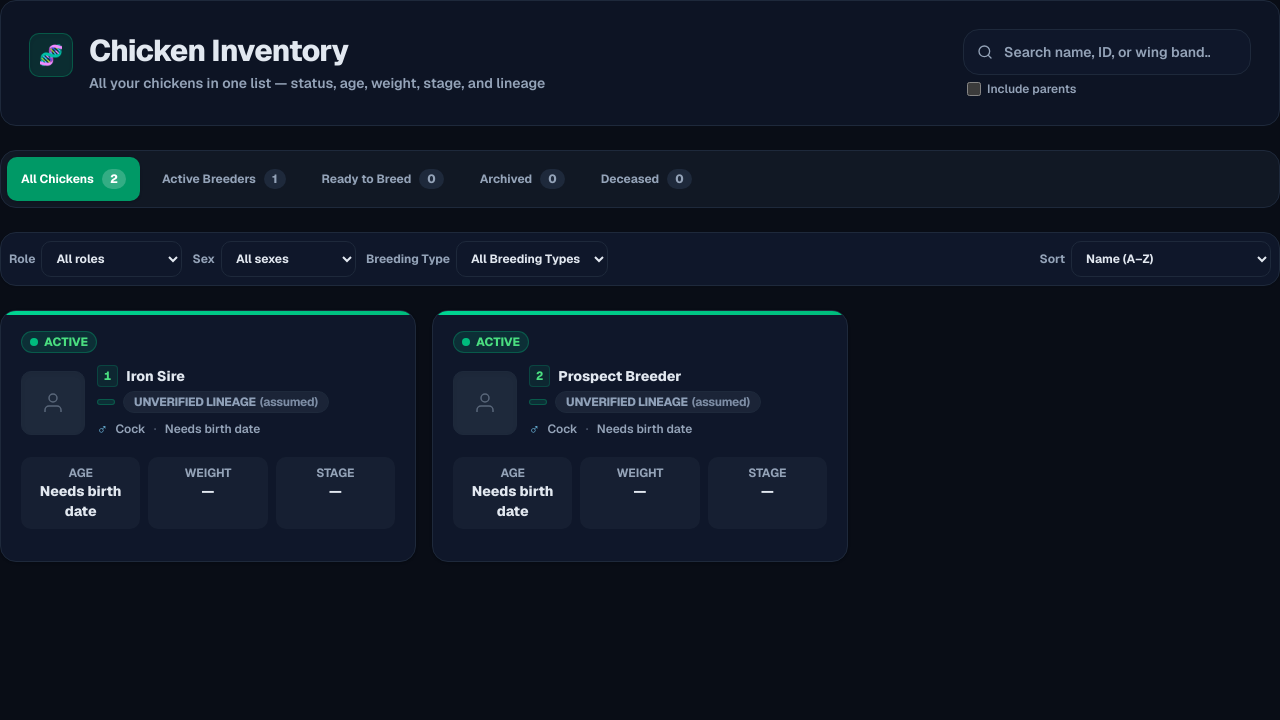
Test: MarketplacePage agriculturist terminology (Fight Prospects / Ready to Breed / Active Breeders) › excludes offspring with breeding_role = breeder from Active Breeders (stays in Registry until promoted)
Click the tab "Active Breeders 1": (224, 179) 148,157 -> 300,201
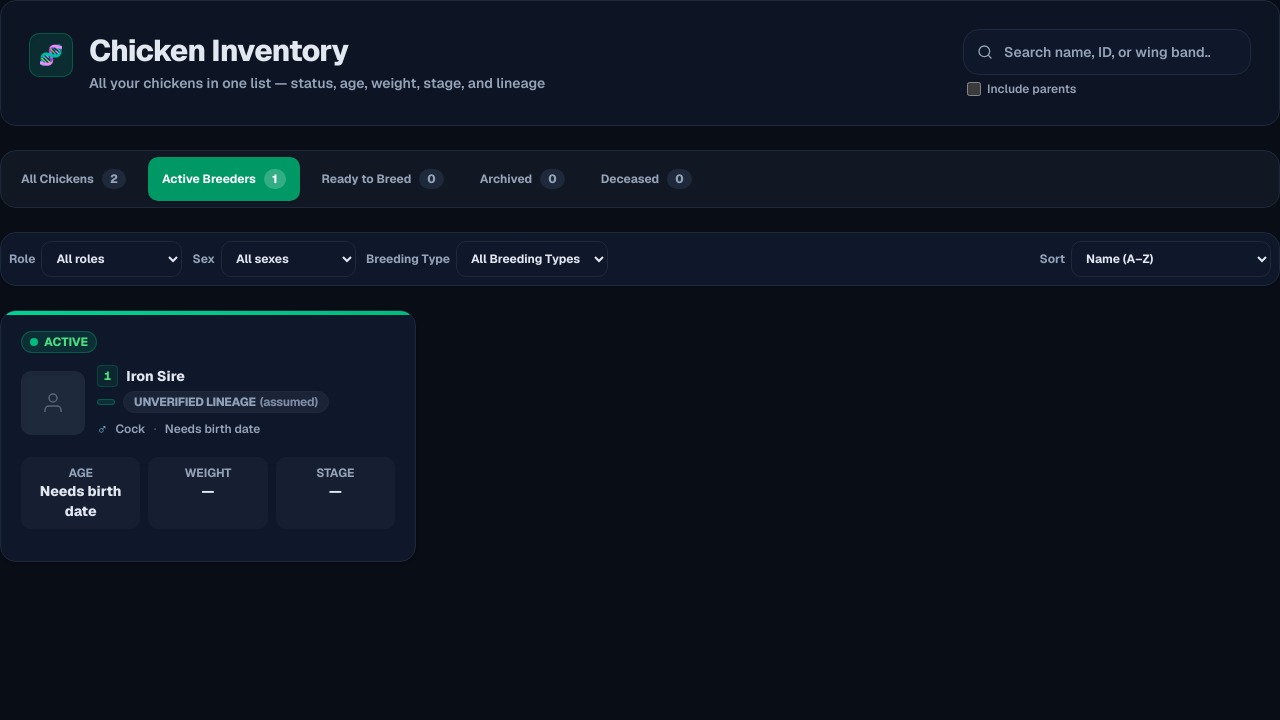
Expected: the heading "Iron Sire" is shown, 126,366 -> 185,386
Now the button "Prospect Breeder" is gone
